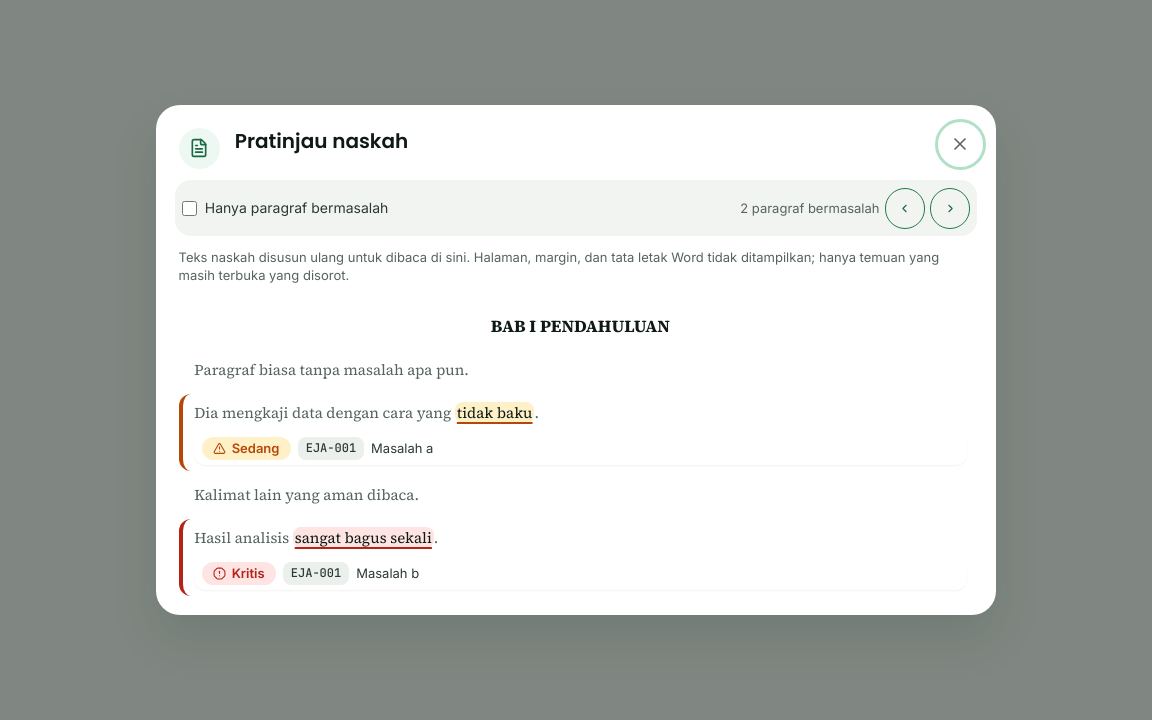
Test: pratinjau naskah › hanya paragraf bermasalah bisa dipilih, dan tombol berikutnya berpindah antar temuan
Check: the text "BAB I PENDAHULUAN" is shown, box [490,314,670,338]
Click the checkbox labelled "Hanya paragraf bermasalah": (190, 208) [182,201,197,216]
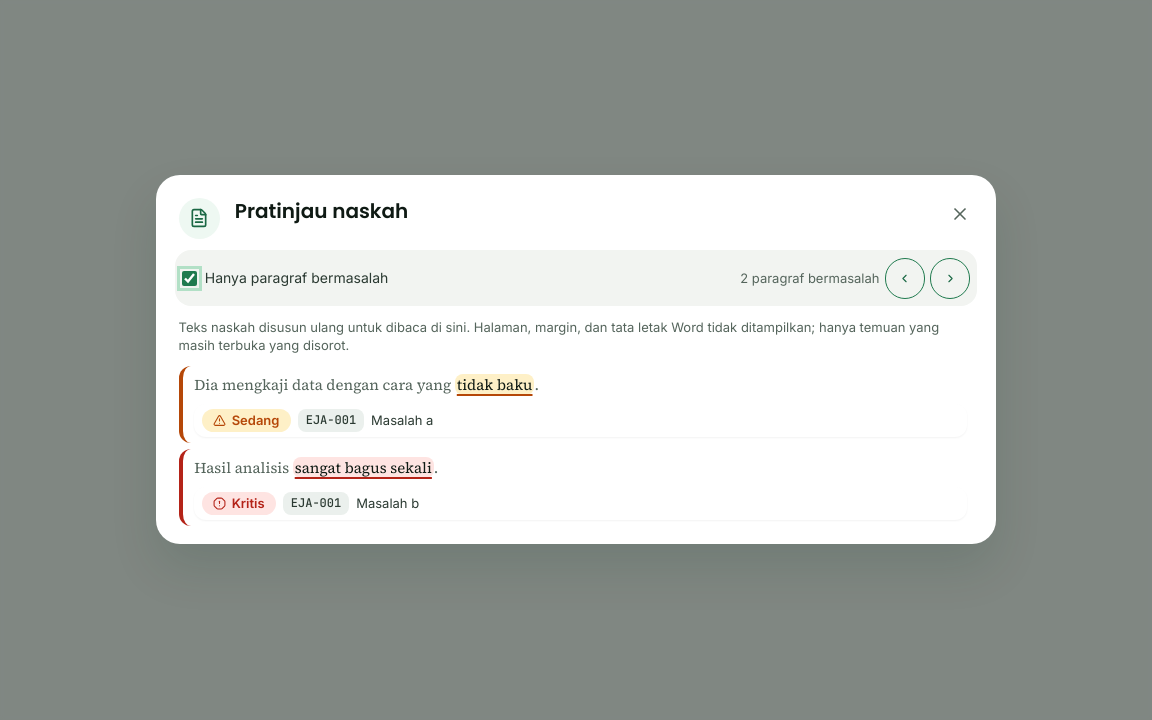
Check: the text "Dia mengkaji data dengan cara yang" is shown, box [194,374,454,395]
Check: the text "Paragraf biasa tanpa masalah apa pun." is gone
Click the button named "Temuan berikutnya": (950, 278) [930,258,970,299]
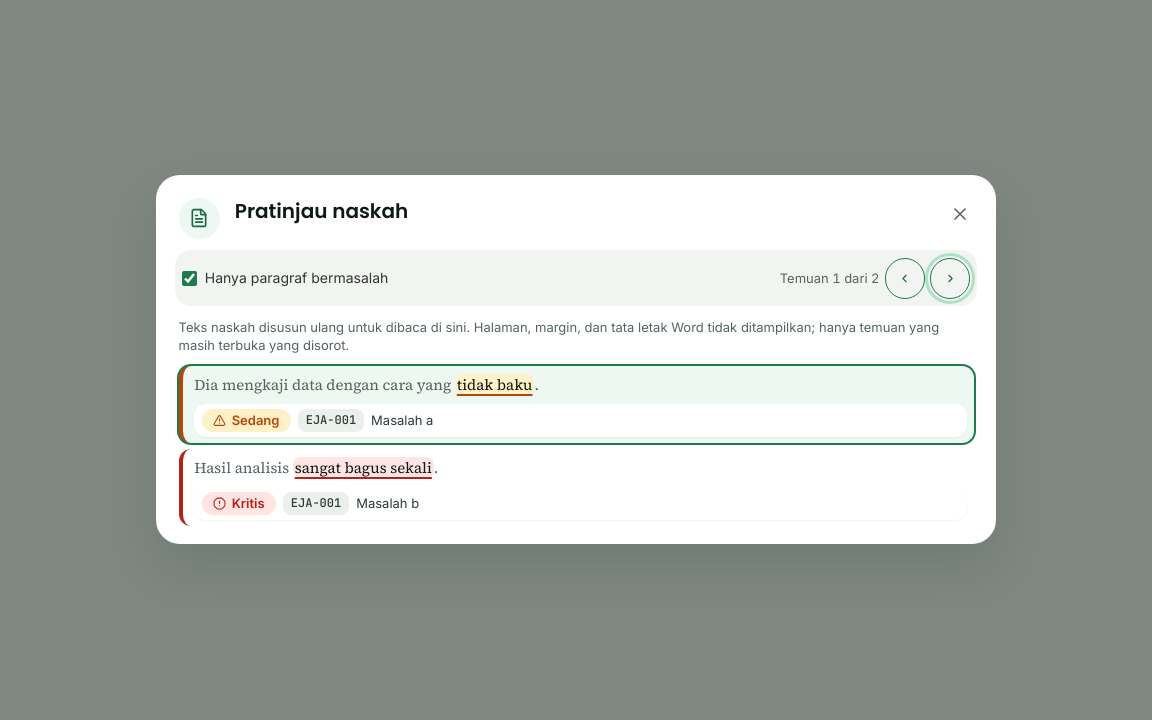
Check: the text "Temuan 1 dari 2" is shown, box [780,266,880,290]
Click the button named "Temuan berikutnya": (950, 278) [930,258,970,299]
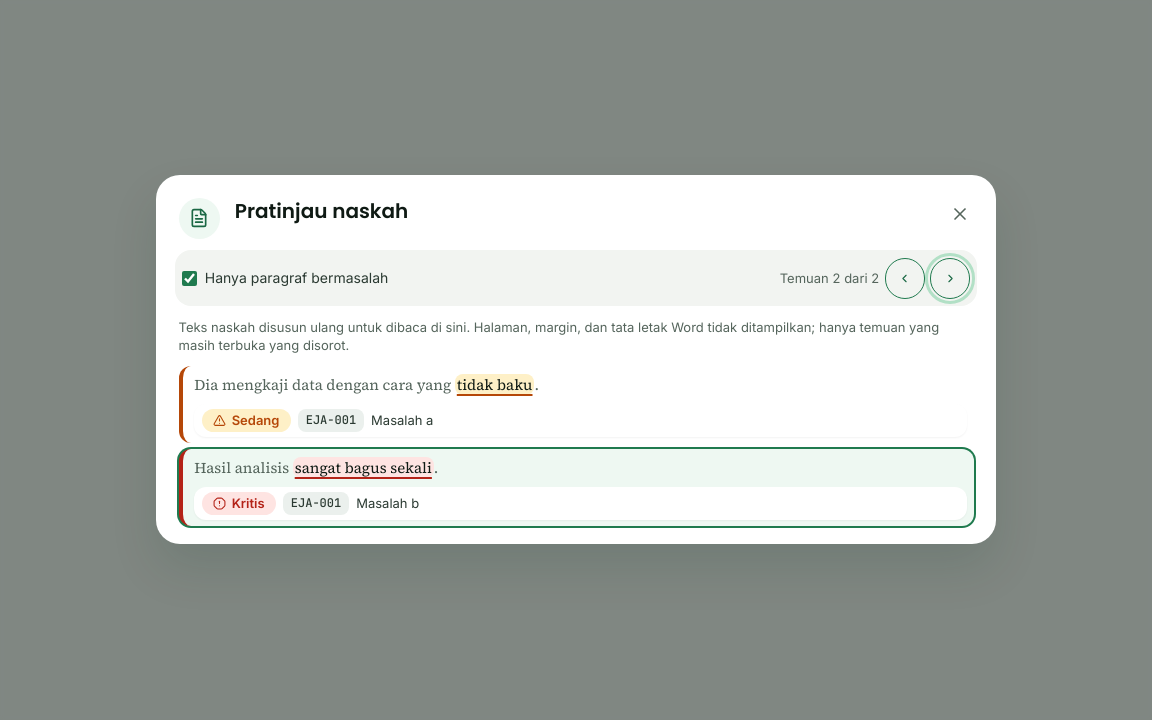
Check: the text "Temuan 2 dari 2" is shown, box [780,266,880,290]
Click the button named "Temuan berikutnya": (950, 278) [930,258,970,299]
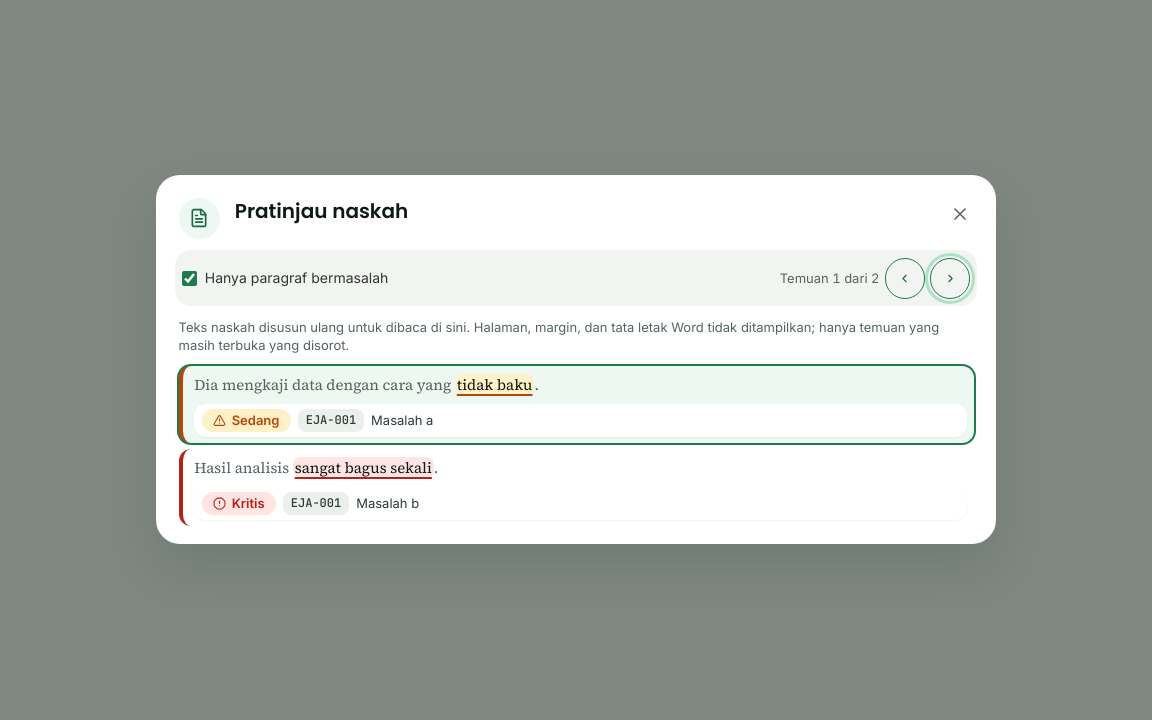
Check: the text "Temuan 1 dari 2" is shown, box [780,266,880,290]
Click the button named "Temuan sebelumnya": (905, 278) [885,258,925,299]
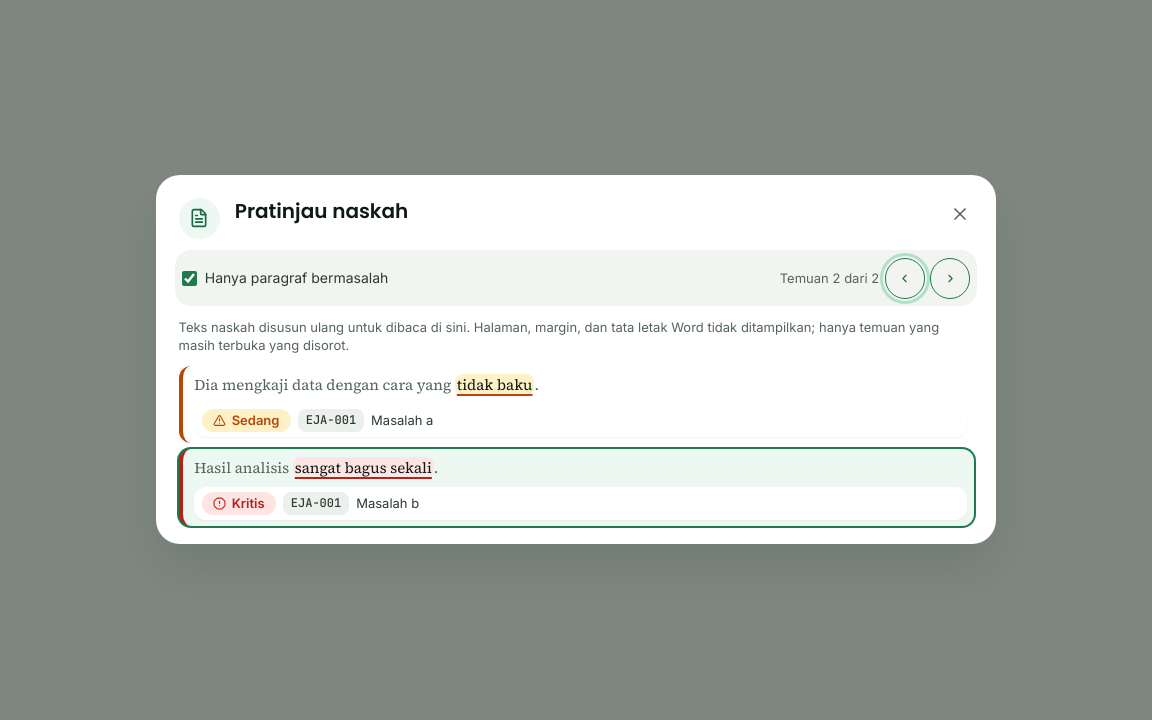
Check: the text "Temuan 2 dari 2" is shown, box [780,266,880,290]
